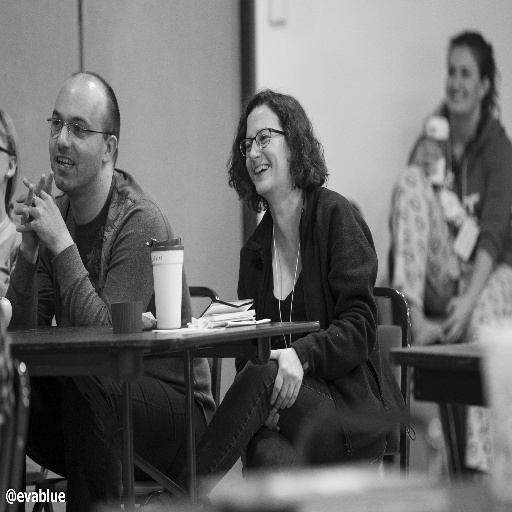hand: (13, 175, 72, 252), (18, 169, 55, 250), (270, 354, 305, 423), (439, 294, 472, 344), (411, 132, 443, 176)
